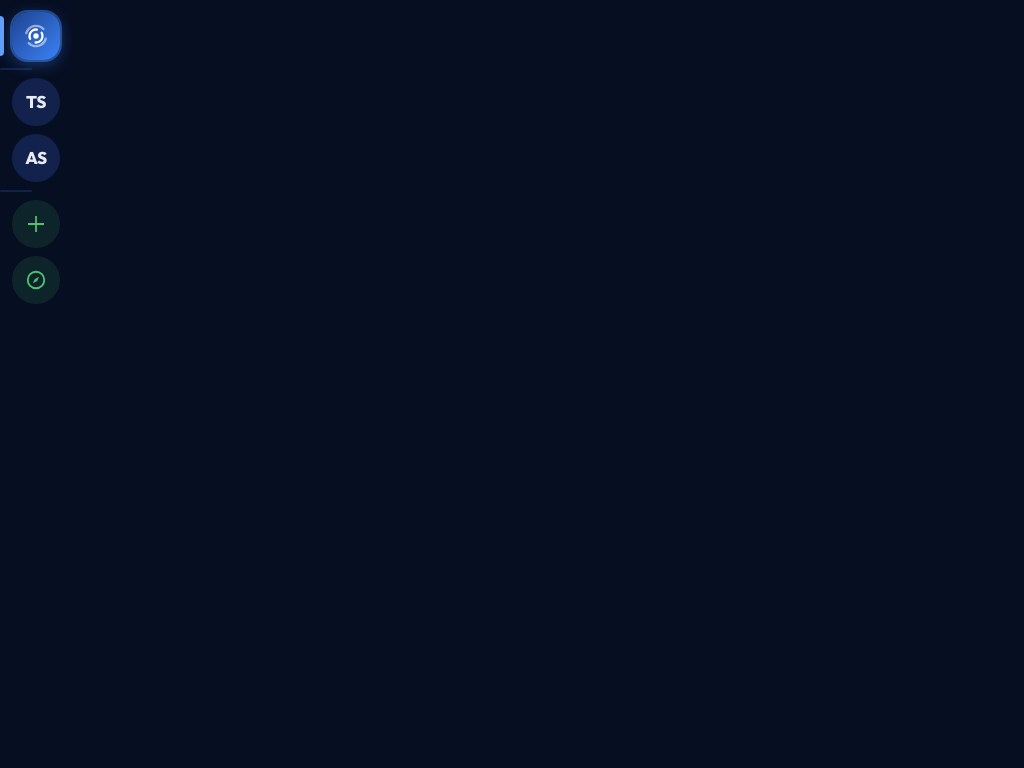
Test: ServerSidebar › closes the Discover modal when its close button is clicked
Click the button named "Discover servers": {"x": 36, "y": 280} [12, 256, 60, 304]
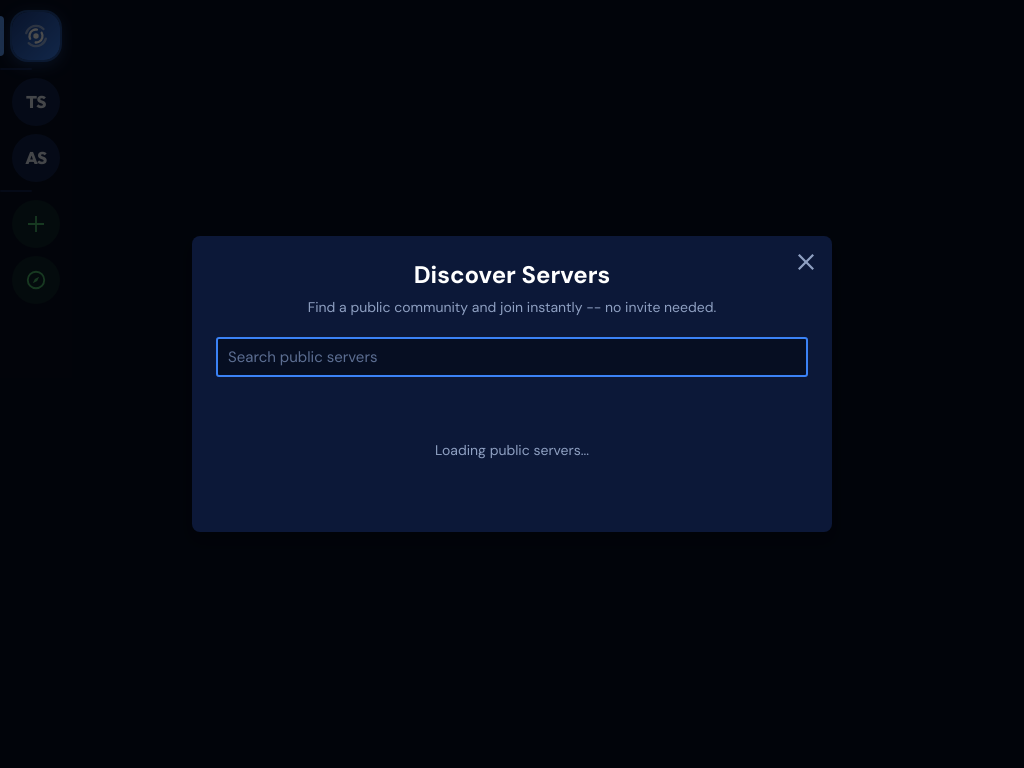
expect the dialog "Discover Servers" is shown: met
Click the button named "Close": {"x": 806, "y": 262} [792, 248, 820, 276]
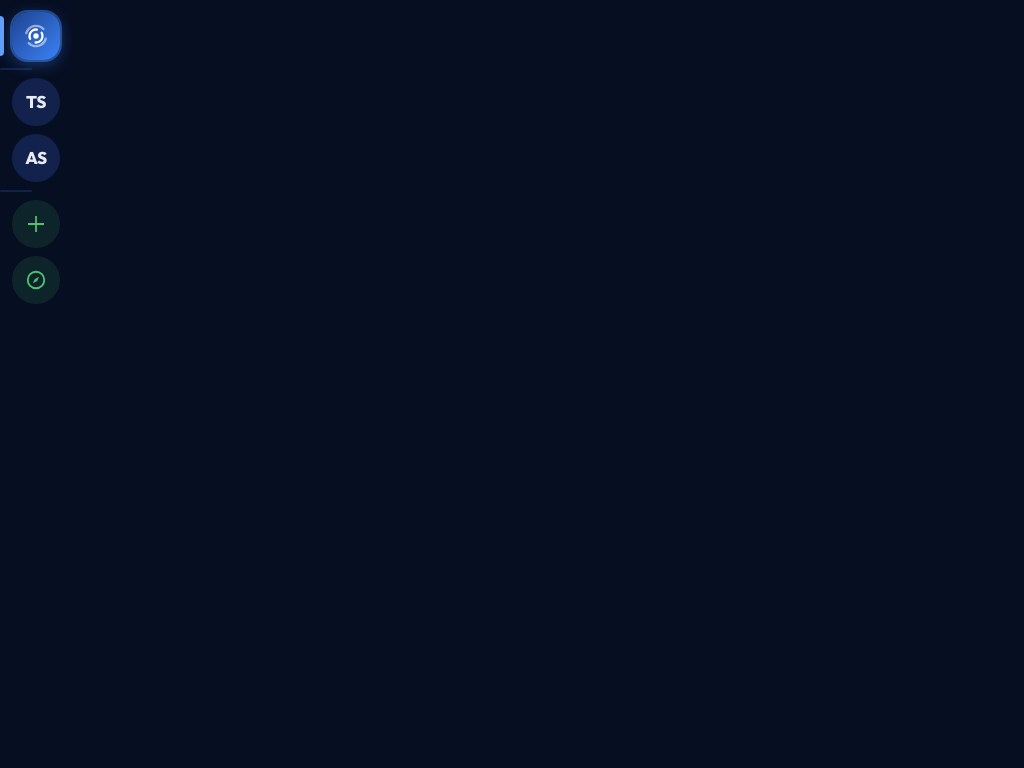
expect the heading "Discover Servers" is gone: met
